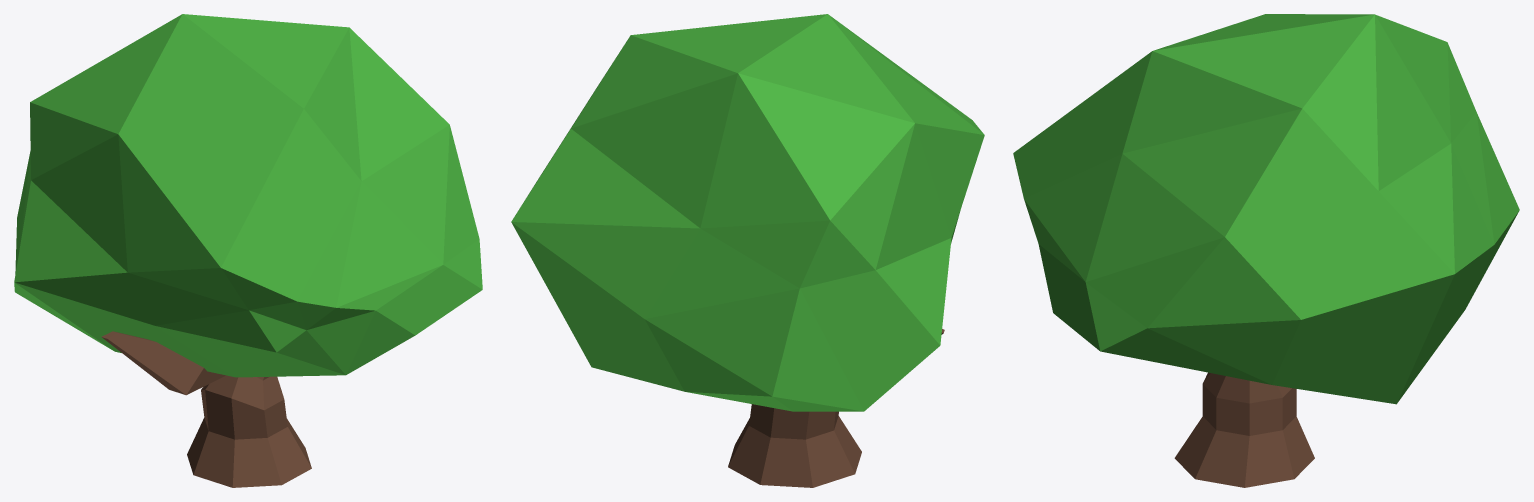
Rendered from Bush.fbx.
3 views of the same model, side by side, from view 1: azimuth 30°, elevation 25°; view 2: azimuth 150°, elevation 25°; view 3: azimuth 270°, elevation 25° (orthographic). The views are drawn at different scales.
Parts seen in each view (by area): view 1: Bush; view 2: Bush; view 3: Bush.
Boxes of the visible parts, box(x1,y1,x2,y2) form: Bush: box(14, 14, 482, 487); Bush: box(511, 14, 984, 487); Bush: box(1013, 14, 1519, 487).
Size of the model in its own units: 6.35 by 6.19 by 6.46.
